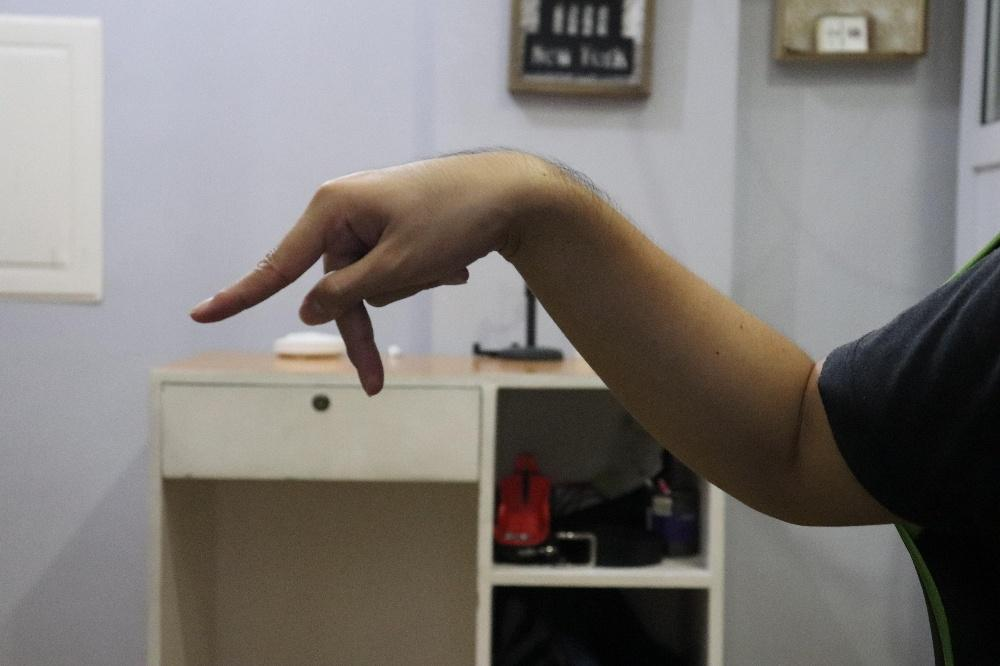p: (190, 147, 531, 397)
